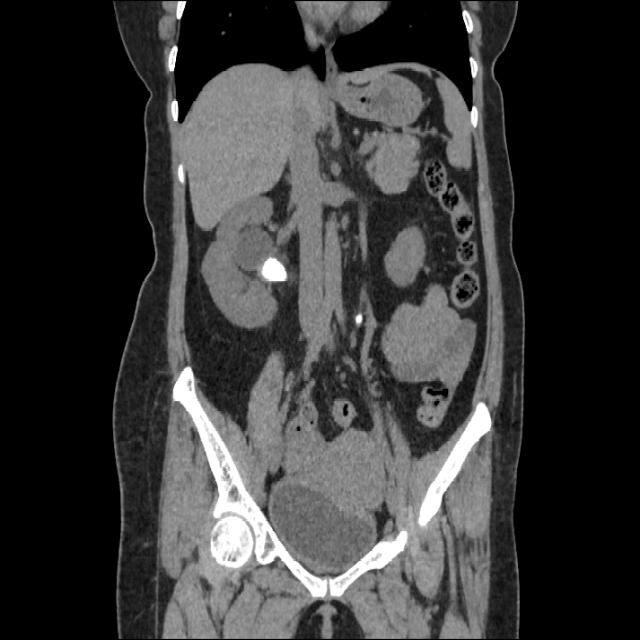kidney: (201, 226, 292, 332)
stone: (262, 255, 286, 283), (354, 313, 363, 326)
